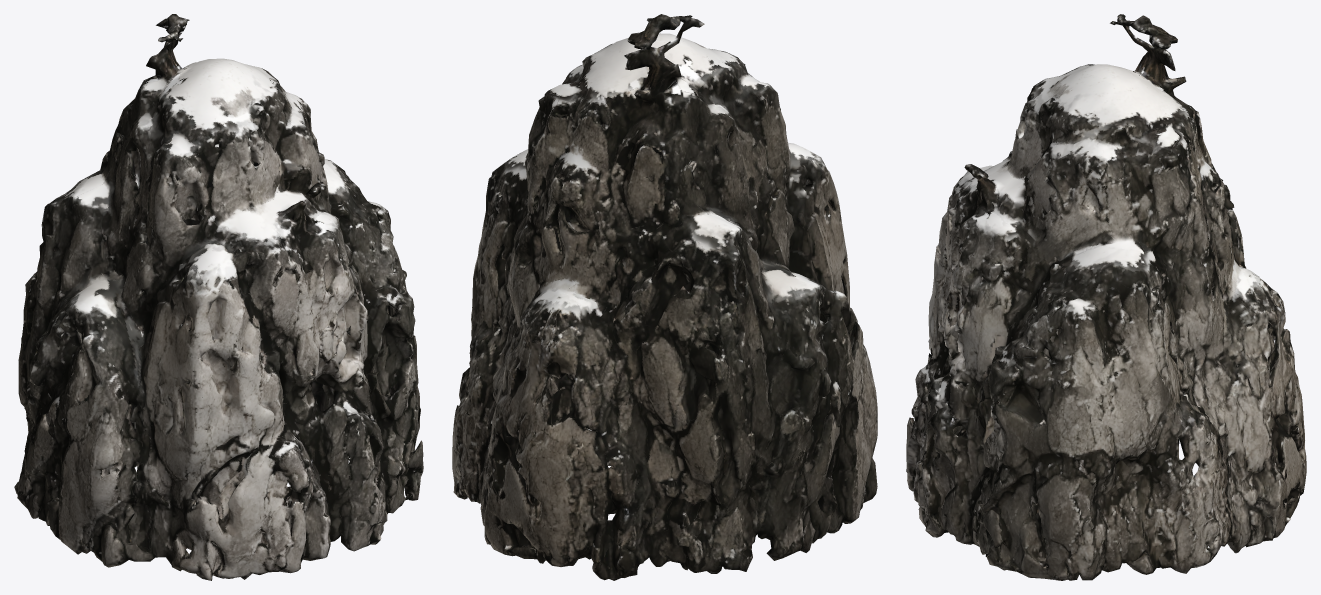
File: InkPart05_ShortPeak.fbx
The picture shows the model from 3 angles, left to right: view 1: azimuth 30°, elevation 25°; view 2: azimuth 150°, elevation 25°; view 3: azimuth 270°, elevation 25°; orthographic projection. The views are drawn at different scales.
Parts seen in each view (by area): view 1: texture_mapping; view 2: texture_mapping; view 3: texture_mapping.
Boxes of the visible parts, x1,y1,x2,y2 form: texture_mapping: (14, 14, 423, 580); texture_mapping: (452, 14, 877, 580); texture_mapping: (906, 14, 1306, 580).
Size of the model in its own units: 0.7581 by 0.7477 by 0.9878.
1 material, 1 textured.
